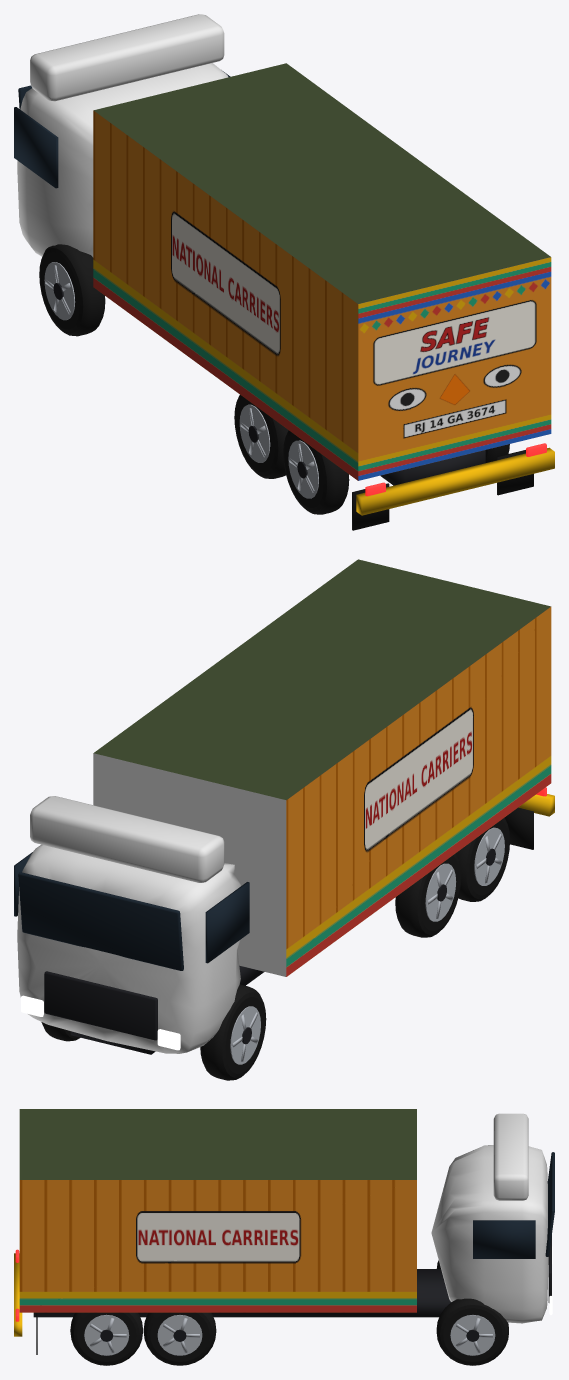
The model's file is truck2.glb.
3 renders of one model, top to bottom at view 1: azimuth 30°, elevation 25°; view 2: azimuth 150°, elevation 25°; view 3: azimuth 270°, elevation 25°, orthographic. The views are drawn at different scales.
Visible parts, largest first — view 1: cargo, truck_CabPaint, truck_Rubber, truck_BumperYellow, truck_RimSilver, truck_Glass, truck_Trim, truck_Mudflap; view 2: cargo, truck_CabPaint, truck_Glass, truck_Rubber, truck_Trim, truck_RimSilver, truck_Mudflap, truck_HeadLight; view 3: cargo, truck_CabPaint, truck_Rubber, truck_RimSilver, truck_Trim, truck_Glass, truck_BumperYellow.
Boxes of the visible parts, <box> form: cargo: <box>93,63,551,480</box>; truck_CabPaint: <box>17,14,228,257</box>; truck_Rubber: <box>39,244,509,514</box>; truck_BumperYellow: <box>356,447,554,515</box>; truck_RimSilver: <box>44,262,318,498</box>; truck_Glass: <box>14,71,230,188</box>; truck_Trim: <box>53,283,485,485</box>; truck_Mudflap: <box>352,450,533,530</box>; cargo: <box>93,559,551,976</box>; truck_CabPaint: <box>17,796,240,1053</box>; truck_Glass: <box>14,852,249,970</box>; truck_Rubber: <box>41,817,509,1080</box>; truck_Trim: <box>44,848,495,1054</box>; truck_RimSilver: <box>230,827,504,1064</box>; truck_Mudflap: <box>504,807,533,849</box>; truck_HeadLight: <box>21,995,180,1050</box>; cargo: <box>19,1109,416,1312</box>; truck_CabPaint: <box>431,1113,548,1323</box>; truck_Rubber: <box>70,1260,508,1365</box>; truck_RimSilver: <box>84,1314,495,1355</box>; truck_Trim: <box>33,1235,551,1341</box>; truck_Glass: <box>473,1152,554,1258</box>; truck_BumperYellow: <box>14,1253,22,1336</box>.
Bounding box in the file's own units: 2.41 × 3.01 × 7.76.
12 materials, 2 textured.
